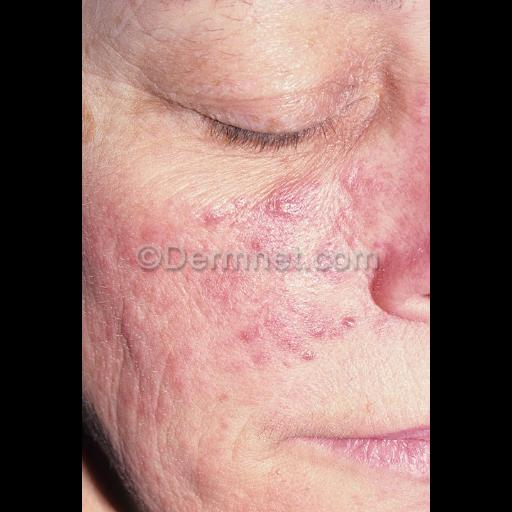Skin_Lesion: (368, 242, 396, 340), (256, 187, 316, 231), (82, 237, 100, 341), (118, 310, 142, 380), (227, 323, 279, 347), (300, 301, 330, 341), (216, 265, 240, 313), (347, 160, 369, 212), (358, 1, 412, 19), (82, 20, 100, 70), (82, 92, 96, 152), (158, 438, 180, 476), (202, 202, 228, 234), (192, 462, 210, 504), (226, 486, 252, 512), (340, 306, 356, 344), (156, 0, 194, 14), (302, 349, 314, 367), (154, 472, 164, 490)
